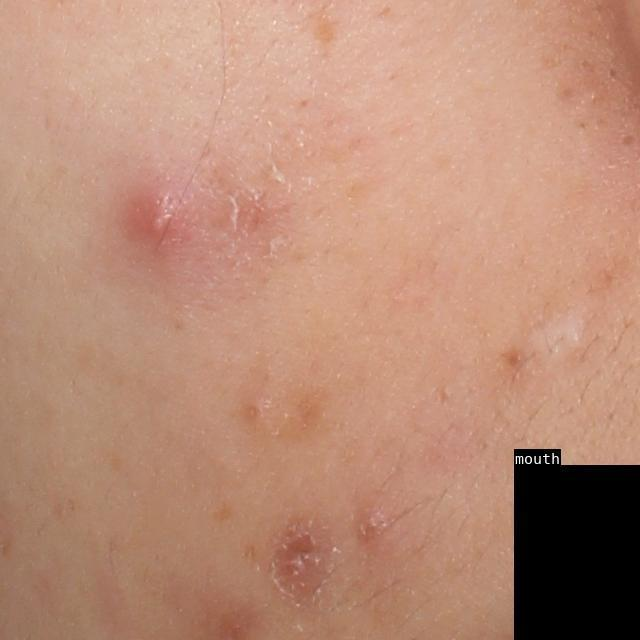comedo: (619, 134, 636, 148)
hypertrophic_scar: (514, 295, 600, 369)
melasma: (309, 10, 344, 53)
papule: (345, 501, 390, 547)
